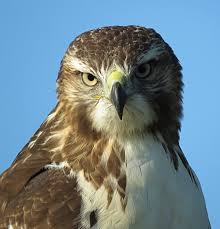nontarget: (1, 14, 215, 228)
